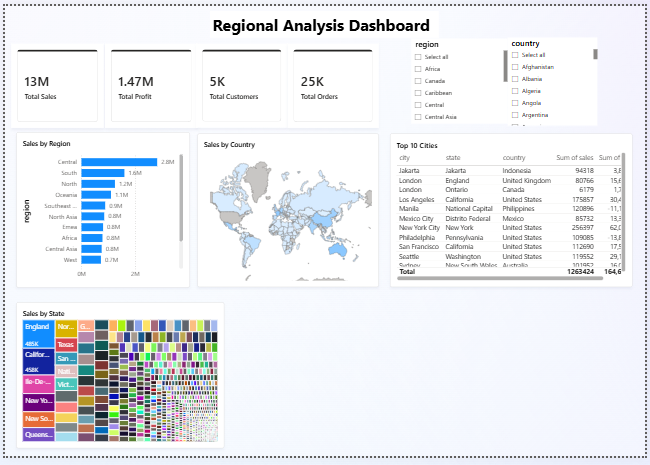

The dashboard page shown, as its layout file describes it:
{"tool":"powerbi","page":{"name":"Regional","canvas":[1280,900],"ordinal":3},"visuals":[{"type":"cardVisual","fields":{"Data":["superstore_cleaned_complete.Total Sales"]},"box":[13.5,75.8,185.9,170],"z":0},{"type":"cardVisual","fields":{"Data":["superstore_cleaned_complete.Total Profit"]},"box":[199.3,75.8,185.9,170],"z":1000},{"type":"cardVisual","fields":{"Data":["superstore_cleaned_complete.Total Customers"]},"box":[382.7,75.8,182.2,168.8],"z":2000},{"type":"cardVisual","fields":{"Data":["superstore_cleaned_complete.Total Orders"]},"box":[564.9,75.8,182.2,170],"z":3000},{"type":"textbox","box":[410.9,9.8,457.3,53.8],"z":4000},{"type":"barChart","title":"Sales by Region","fields":{"Category":["superstore_cleaned_complete.region"],"Y":["Sum(superstore_cleaned_complete.sales)"]},"box":[21.4,252.2,347,310.3],"z":5000},{"type":"shapeMap","title":"Sales by Country","fields":{"Value":["superstore_cleaned_complete.Total Sales"],"Category":["superstore_cleaned_complete.country"]},"box":[385.2,255.3,362.3,307.2],"z":6000},{"type":"treemap","title":"Sales by State","fields":{"Values":["Sum(superstore_cleaned_complete.sales)"],"Group":["superstore_cleaned_complete.state"]},"box":[21.4,593.1,415.8,292],"z":7000},{"type":"tableEx","title":" Top 10 Cities          ","fields":{"Values":["superstore_cleaned_complete.city","superstore_cleaned_complete.state","superstore_cleaned_complete.country","Sum(superstore_cleaned_complete.sales)","Sum(superstore_cleaned_complete.profit)"]},"box":[768.9,255.3,484.5,307.2],"z":8000},{"type":"slicer","fields":{"Values":["superstore_cleaned_complete.region"]},"box":[811.4,65.3,192.9,170],"z":9000},{"type":"slicer","fields":{"Values":["superstore_cleaned_complete.country"]},"box":[1004.3,62.4,180,177.1],"z":10000}]}

Visuals, with their boxes in screenshot pixels (x1, y1, x2, y2), scaled from the page's 1280x900 canvas onto the 650x465 screenshot:
cardVisual - superstore_cleaned_complete.Total Sales: pyautogui.locateOnScreen(7, 39, 101, 127)
cardVisual - superstore_cleaned_complete.Total Profit: pyautogui.locateOnScreen(101, 39, 196, 127)
cardVisual - superstore_cleaned_complete.Total Customers: pyautogui.locateOnScreen(194, 39, 287, 126)
cardVisual - superstore_cleaned_complete.Total Orders: pyautogui.locateOnScreen(287, 39, 379, 127)
textbox: pyautogui.locateOnScreen(209, 5, 441, 33)
"Sales by Region" barChart: pyautogui.locateOnScreen(11, 130, 187, 291)
"Sales by Country" shapeMap: pyautogui.locateOnScreen(196, 132, 380, 291)
"Sales by State" treemap: pyautogui.locateOnScreen(11, 306, 222, 457)
" Top 10 Cities          " tableEx: pyautogui.locateOnScreen(390, 132, 636, 291)
slicer - superstore_cleaned_complete.region: pyautogui.locateOnScreen(412, 34, 510, 122)
slicer - superstore_cleaned_complete.country: pyautogui.locateOnScreen(510, 32, 601, 124)
